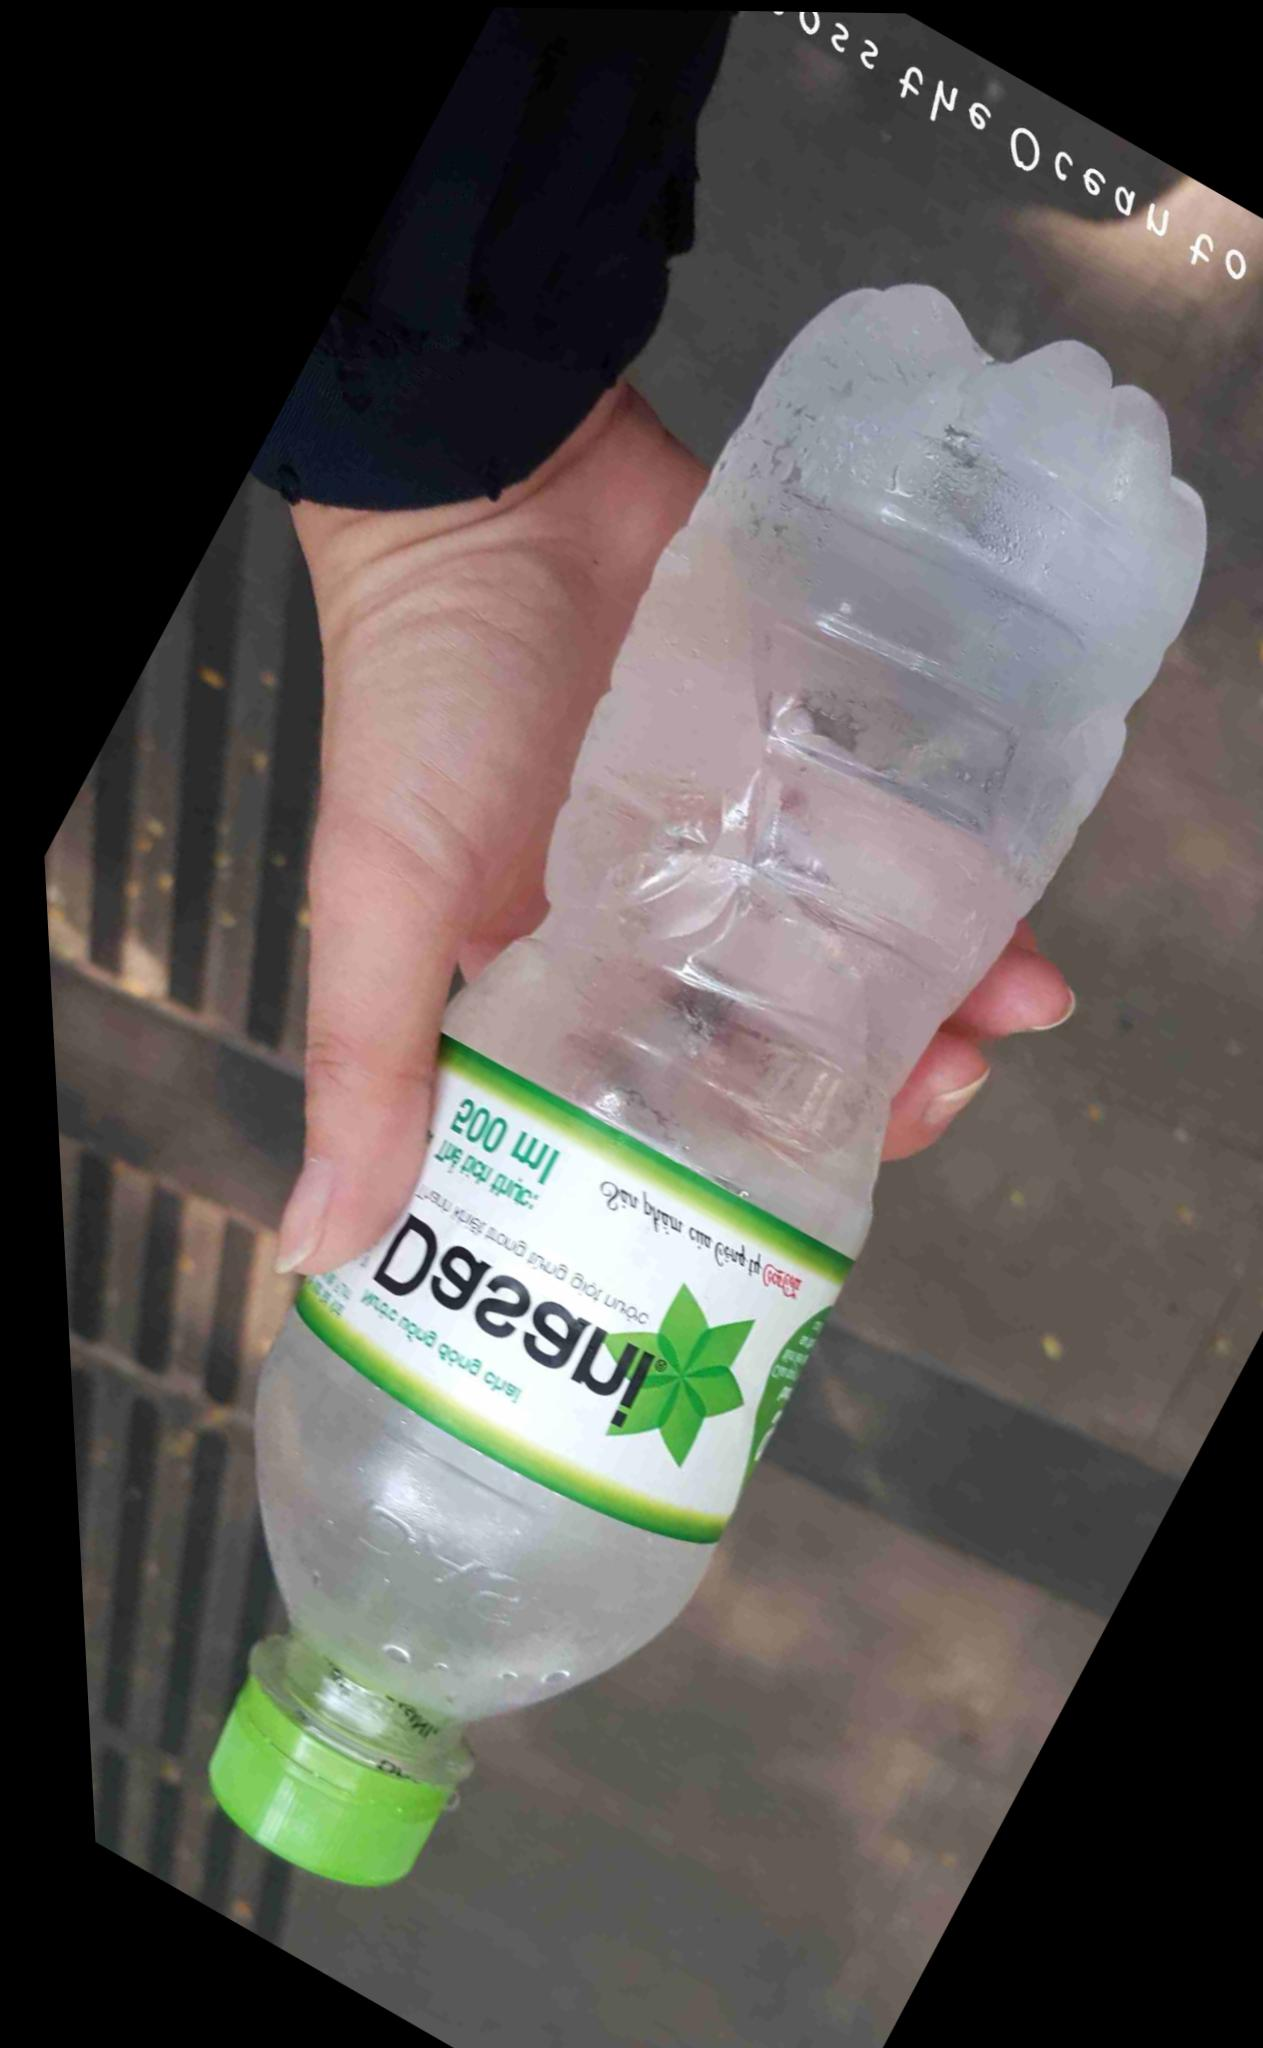plastic: (48, 15, 1262, 2047)
